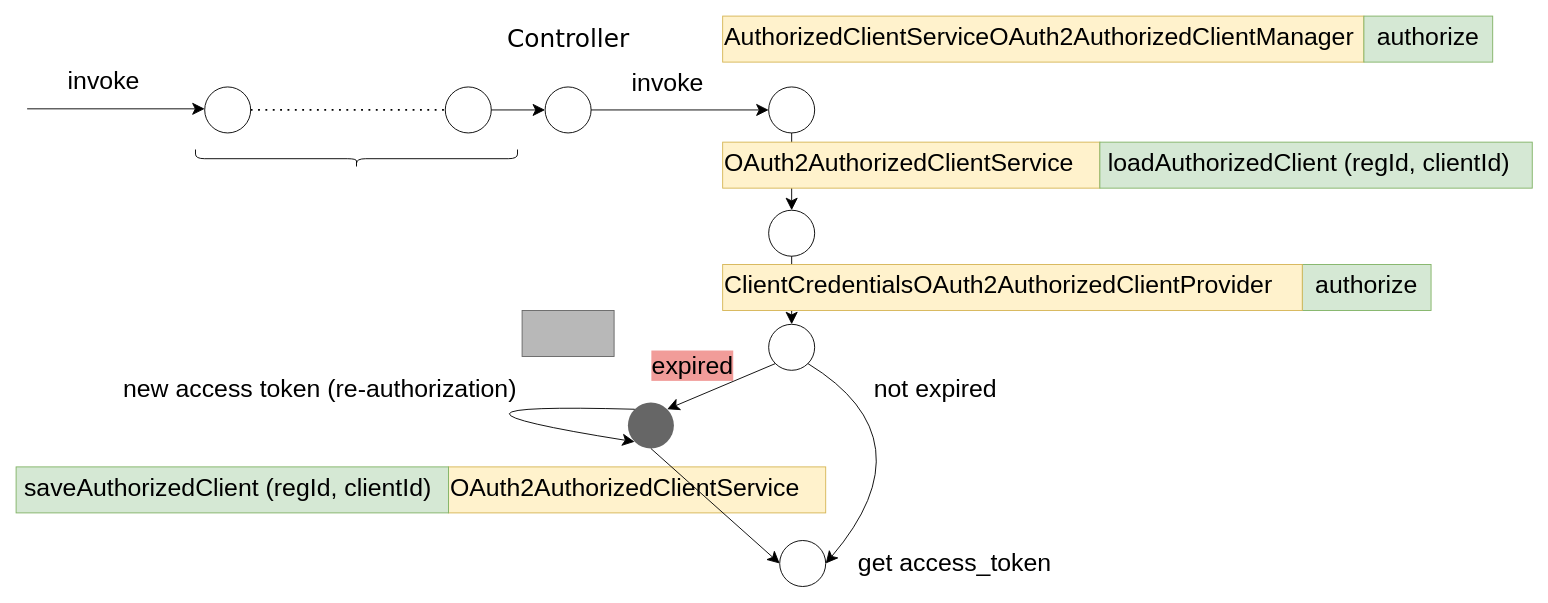
The diagram is 1548 pixels wide and 603 high, and some of its shapes have lost their labels. Each missing label, with the centre of its shape:
"(C,D)" belongs at [567,333].
"Filters" belongs at [356,158].
